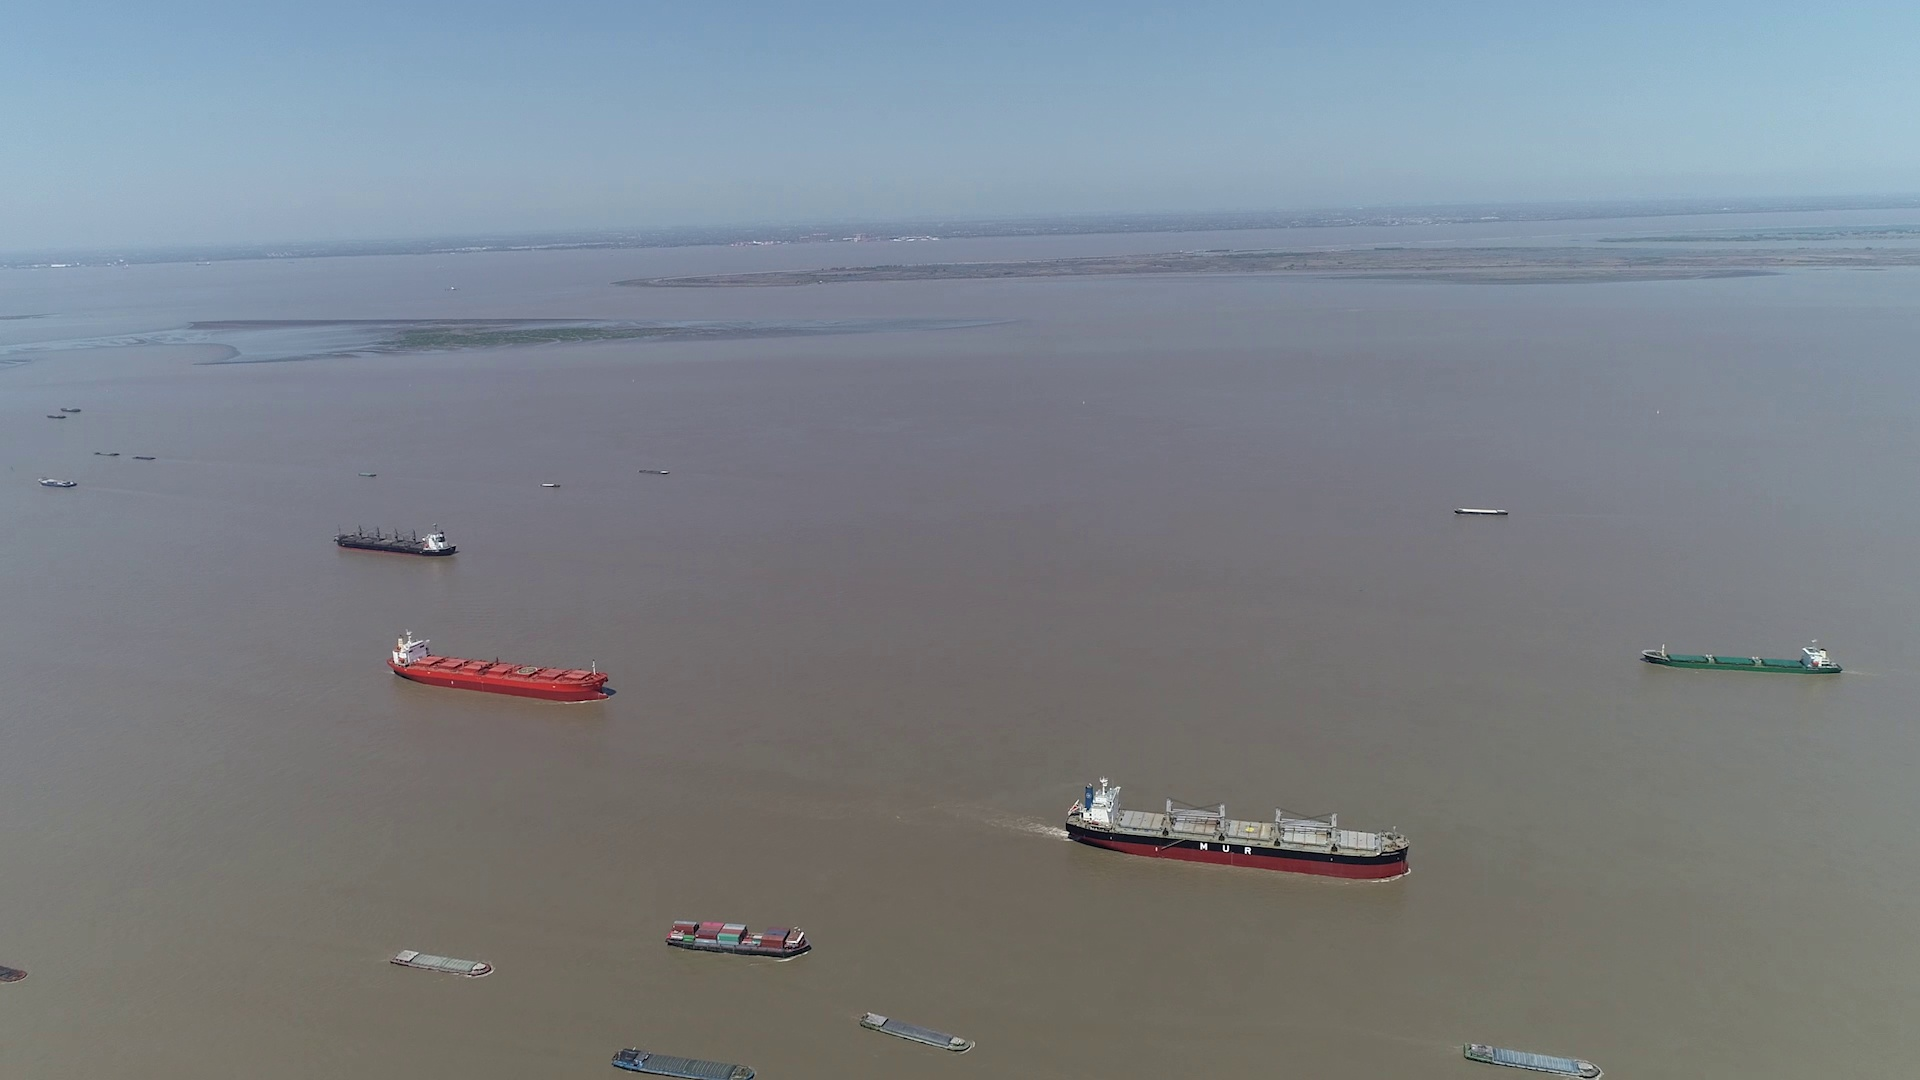ship: (1063, 779, 1414, 880), (389, 633, 607, 702), (1644, 640, 1844, 673), (666, 919, 810, 957), (1462, 1043, 1600, 1079), (861, 1011, 976, 1054), (608, 1048, 757, 1079), (334, 524, 458, 556), (390, 949, 492, 977), (0, 963, 26, 984), (1451, 506, 1509, 516), (40, 477, 79, 487)
